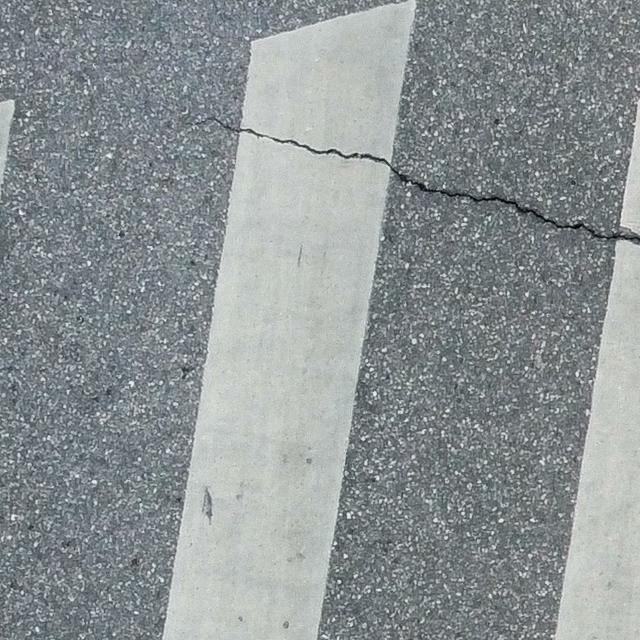TransverseCrack: (201, 112, 640, 244)
